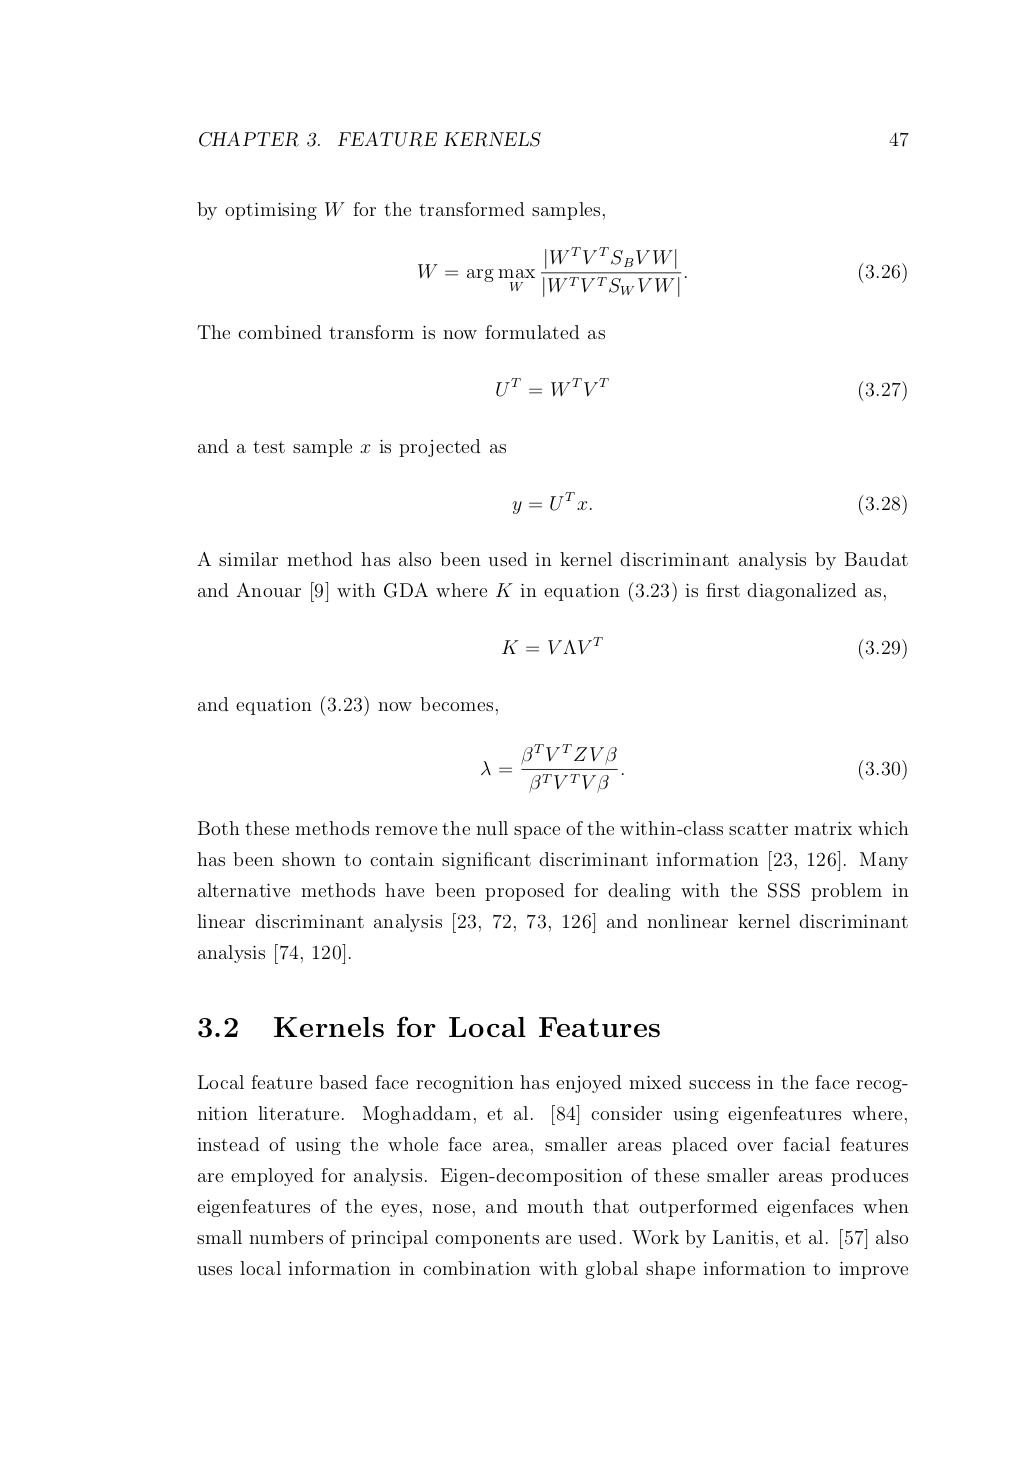formula: (418, 245, 906, 297), (481, 742, 906, 793), (502, 635, 906, 659), (512, 491, 906, 515), (497, 377, 906, 400)
